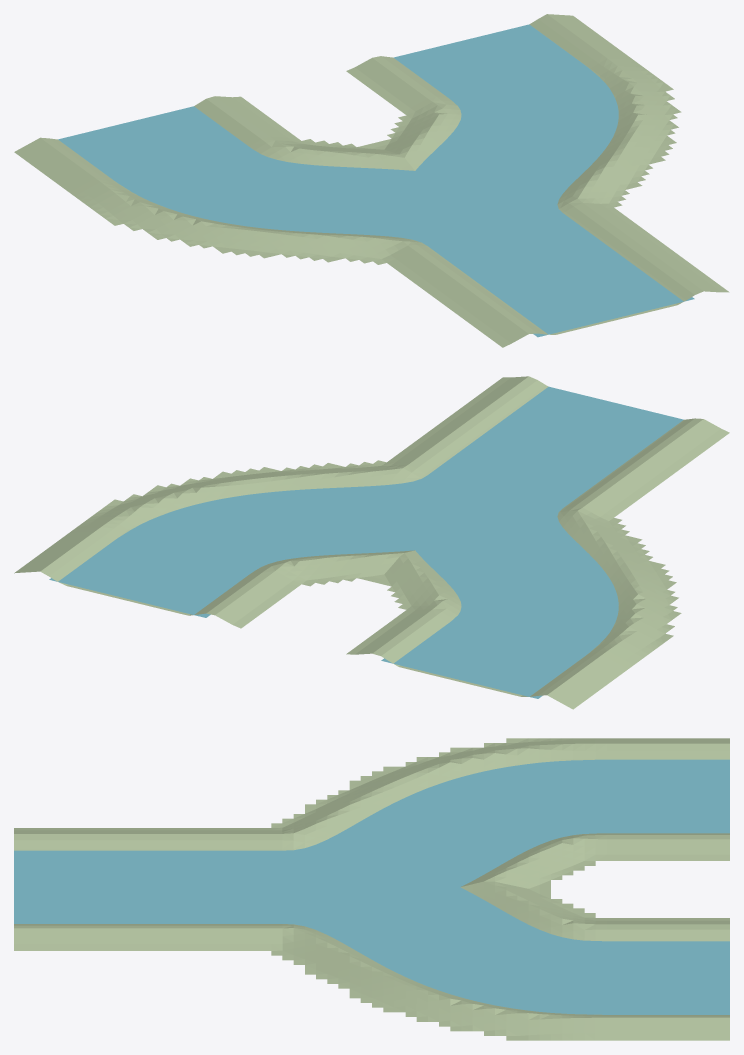
Rendered from river_fork_Y.fbx.
3 views of the same model, one above another, from view 1: azimuth 30°, elevation 25°; view 2: azimuth 150°, elevation 25°; view 3: azimuth 270°, elevation 25° (orthographic). The views are drawn at different scales.
Visible parts, largest first — view 1: river_fork_Y_Water, river_fork_Y; view 2: river_fork_Y_Water, river_fork_Y; view 3: river_fork_Y_Water, river_fork_Y.
Boxes of the visible parts, bbox=[...] form: river_fork_Y_Water: bbox=[58, 24, 694, 337]; river_fork_Y: bbox=[14, 14, 729, 347]; river_fork_Y_Water: bbox=[49, 386, 683, 698]; river_fork_Y: bbox=[14, 376, 729, 709]; river_fork_Y_Water: bbox=[14, 759, 729, 1014]; river_fork_Y: bbox=[14, 738, 729, 1040].
Bounding box in the file's own units: 25 × 0.3486 × 25.
